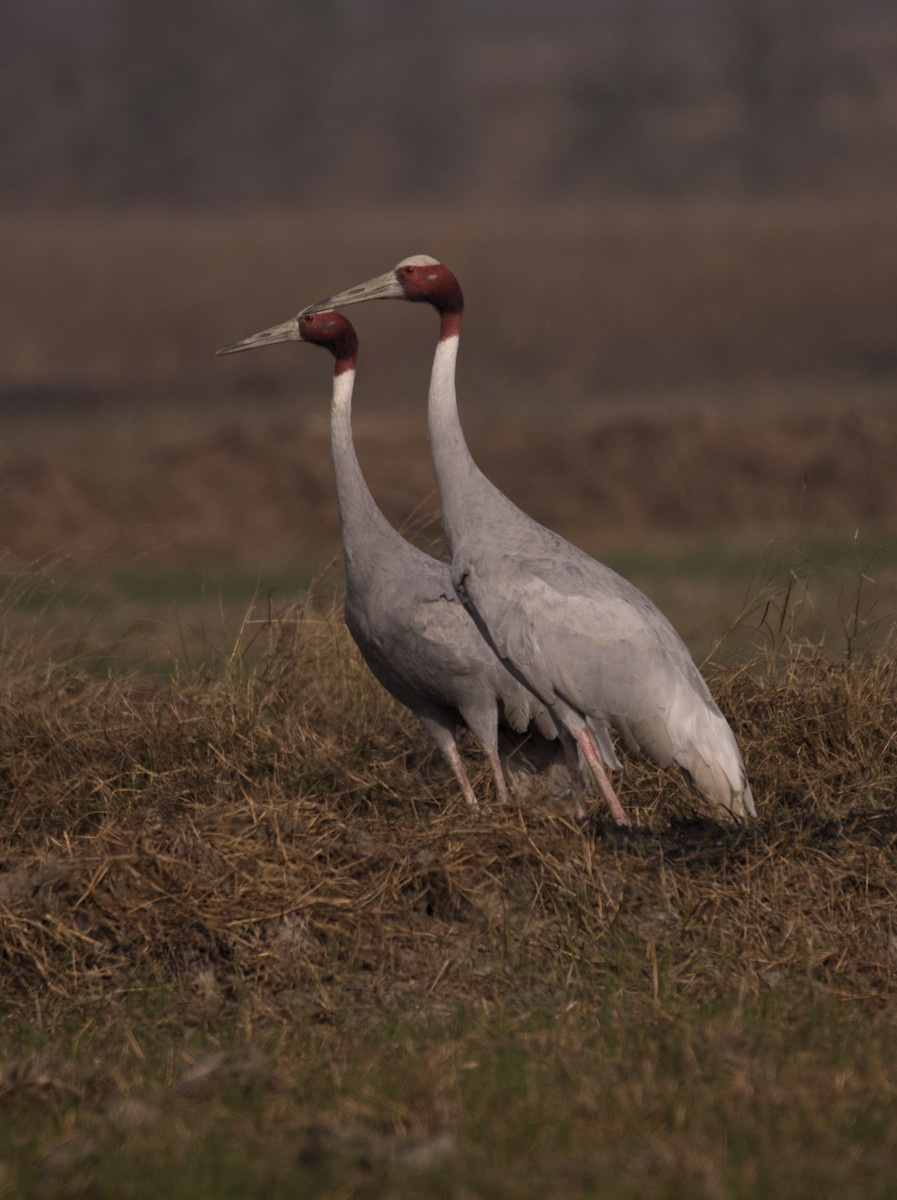crane: (321, 235, 771, 860), (209, 287, 449, 775)
